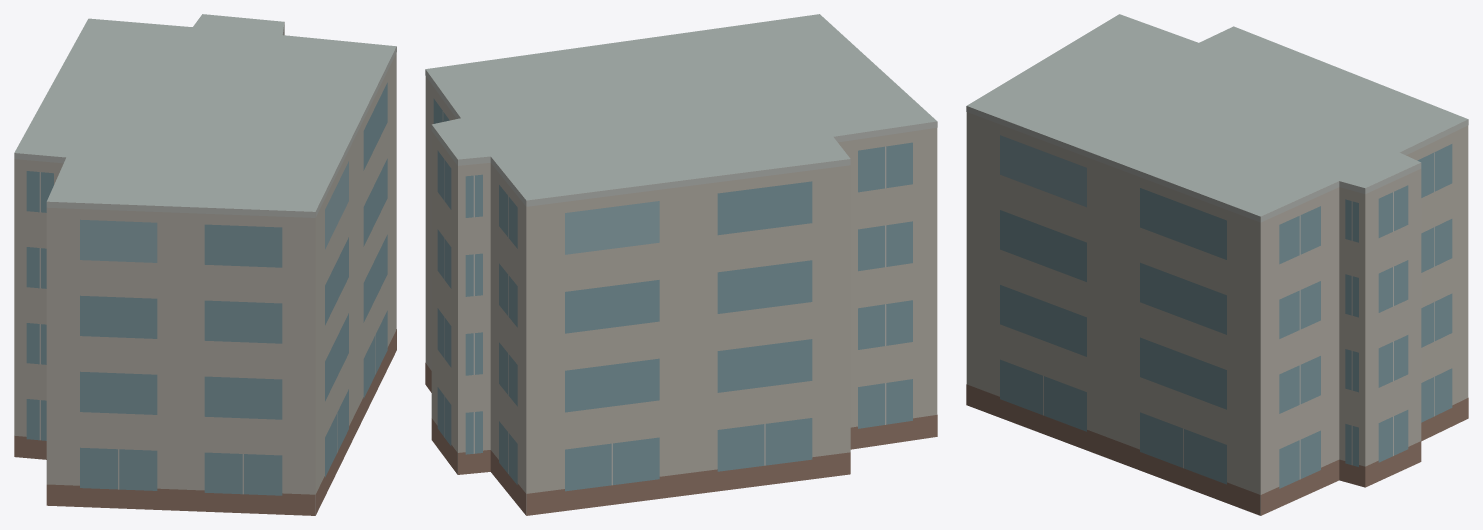
Rendered from survey-upis-32893961.glb.
3 views of the same model, side by side, from view 1: azimuth 30°, elevation 25°; view 2: azimuth 150°, elevation 25°; view 3: azimuth 270°, elevation 25° (orthographic). The views are drawn at different scales.
Parts seen in each view (by area): view 1: survey-upis-32893961.tmp; view 2: survey-upis-32893961.tmp; view 3: survey-upis-32893961.tmp.
Part boxes in pixels (left/top/right/bottom): survey-upis-32893961.tmp: left=14, top=14, right=396, bottom=515; survey-upis-32893961.tmp: left=425, top=14, right=937, bottom=515; survey-upis-32893961.tmp: left=966, top=14, right=1468, bottom=515.
Bounding box in the file's own units: 17.72 × 12.2 × 18.55.
